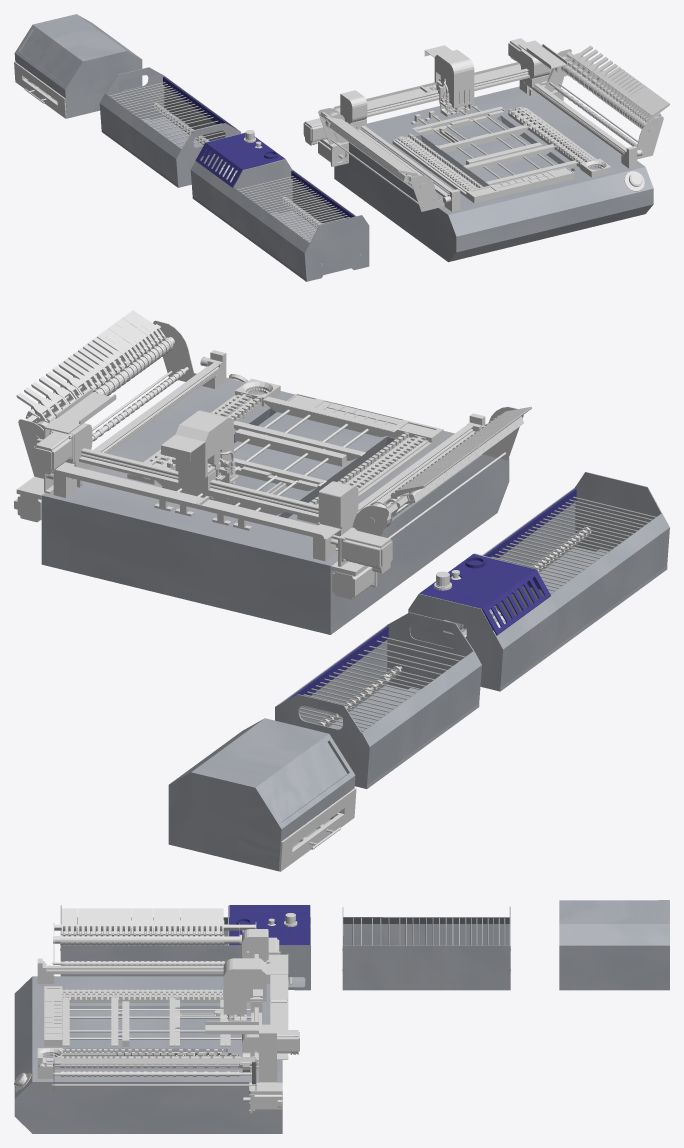
The model's file is ZHENGBANG1.fbx.
3 views of the same model, one above another, from view 1: azimuth 30°, elevation 25°; view 2: azimuth 150°, elevation 25°; view 3: azimuth 270°, elevation 25° (orthographic). The views are drawn at different scales.
Parts seen in each view (by area): view 1: Cube, Cube.117, Cube.118, Cube.001, Cube.027, Cube.116, Cylinder.010, Cube.114, petal, rails, Cylinder.049, Cube.008 (+18 smaller); view 2: Cube, Cube.117, Cube.001, Cube.118, Cube.027, Cube.116, Cylinder.010, Cube.114, rails, Cylinder.049, Cube.130, petal (+16 smaller); view 3: Cube, Cube.118, Cube.001, Cube.117, Cube.027, Cube.116, Cube.114, Cube.131, Cylinder.013, Cylinder.001, Cube.063, Cube.006 (+16 smaller).
Boxes of the visible parts, x1,y1,x2,y2 form: Cube: (334,86,653,262); Cube.117: (190,132,369,281); Cube.118: (99,67,240,187); Cube.001: (14,14,142,118); Cube.027: (333,38,549,129); Cube.116: (195,133,284,187); Cylinder.010: (237,176,349,242); Cube.114: (424,45,474,109); petal: (410,116,663,211); rails: (360,83,626,193); Cylinder.049: (14,61,66,118); Cube.008: (493,167,574,196); Cube: (41,377,509,634); Cube.117: (408,472,669,691); Cube.001: (168,718,355,871); Cube.118: (275,612,481,788); Cube.027: (33,423,358,539); Cube.116: (419,554,550,635); Cylinder.010: (491,496,655,593); Cube.114: (161,410,233,481); rails: (94,362,472,512); Cylinder.049: (279,788,356,871); Cube.130: (37,438,318,513); petal: (153,320,523,460); Cube: (14,976,282,1133); Cube.118: (342,906,510,990); Cube.001: (559,900,669,990); Cube.117: (60,905,310,990); Cube.027: (242,929,299,1068); Cube.116: (229,905,309,945); Cube.114: (223,958,288,1019); Cube.131: (205,1021,276,1082); Cylinder.013: (62,935,224,945); Cylinder.001: (62,1009,251,1039); Cube.063: (61,1055,240,1063); Cube.006: (46,967,258,1069).
Size of the model in its own units: 136 by 36.89 by 184.
3 materials, 2 textured.
